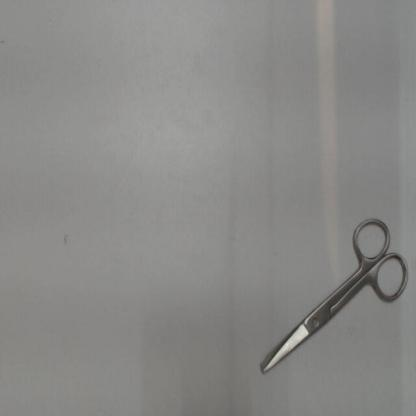Dressing Scissors: (250, 212, 414, 382)
